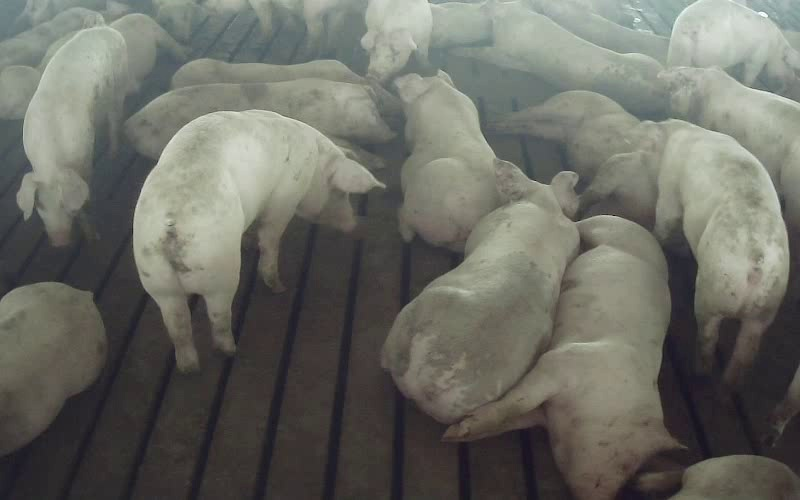pig: (444, 216, 679, 499), (382, 160, 578, 423), (632, 120, 787, 385), (124, 78, 395, 169), (455, 2, 667, 117), (17, 27, 128, 245), (662, 67, 799, 230), (497, 91, 657, 228), (394, 71, 499, 250), (0, 282, 106, 455), (667, 0, 799, 85)
